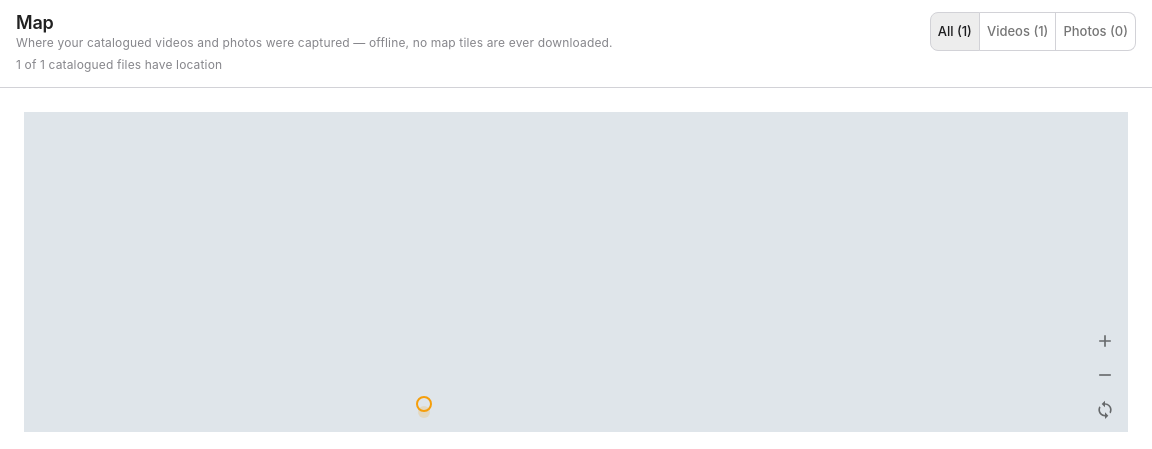
Scenario: MapView › shows the source badge and place line in the pin popover for an approximate location
Click the button with test id "map-pin" at (424, 404), box [416,396,432,412]
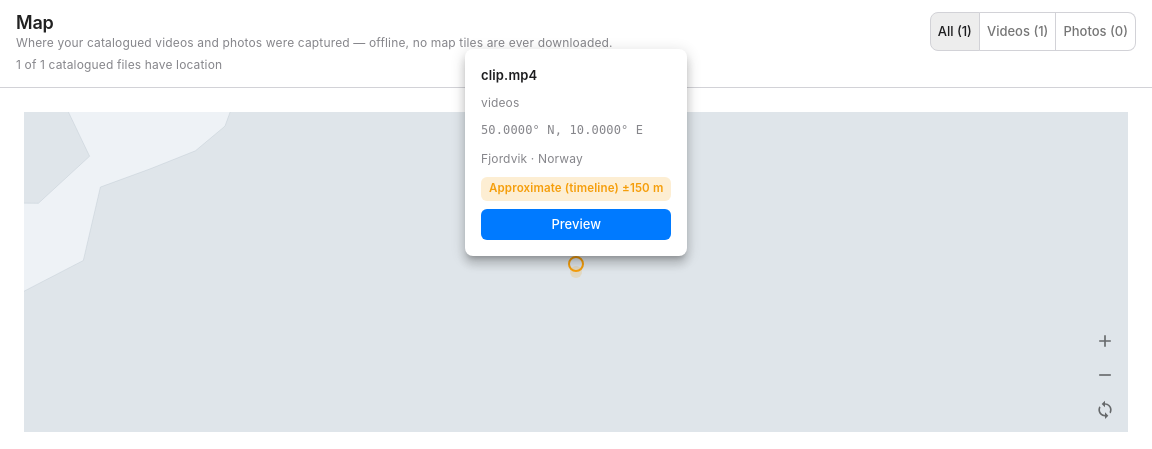
expect the element with test id "map-pin-source-badge" is shown: met, box [481,177,671,201]
expect the element with test id "map-pin-source-badge" shows "±150 m": met, box [489,182,663,196]
expect the text with test id "map-pin-place" reads "Fjordvik · Norway": met, box [481,151,583,166]
